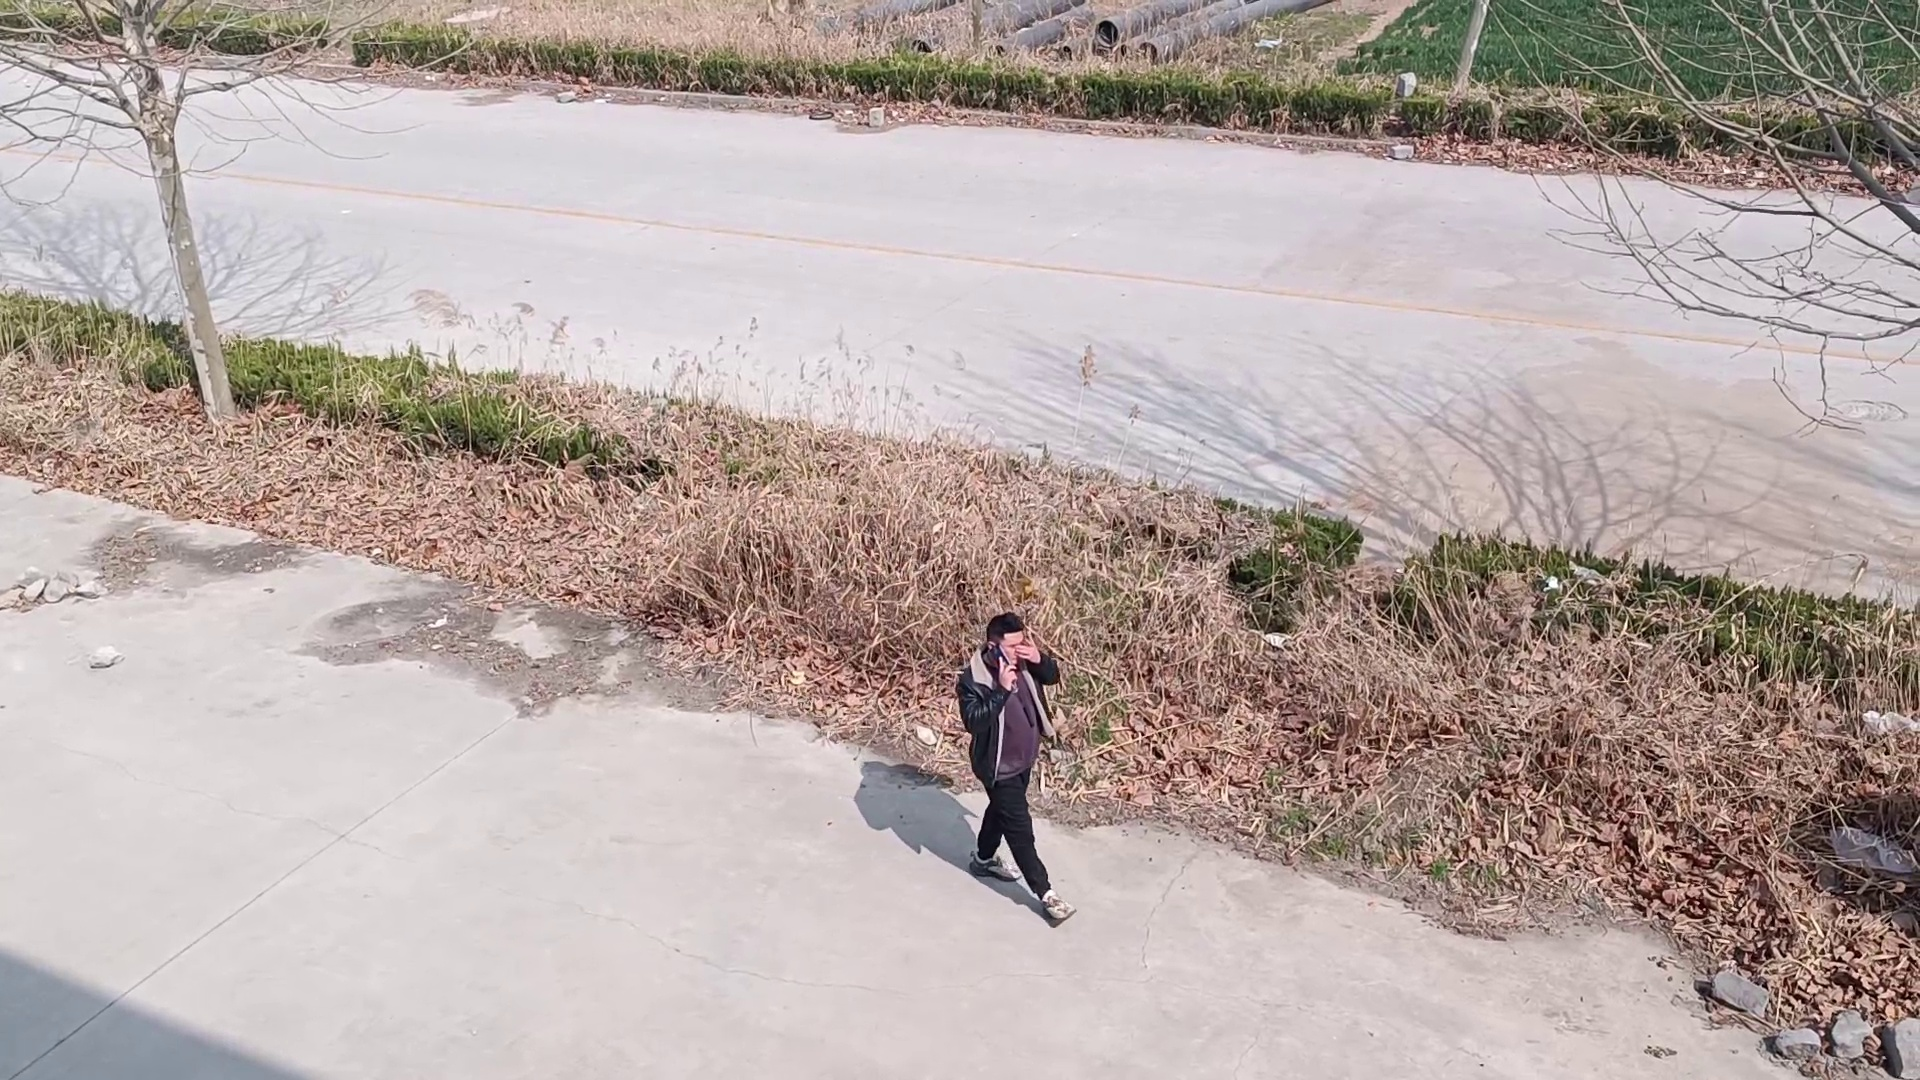phone: (975, 603, 1038, 673)
